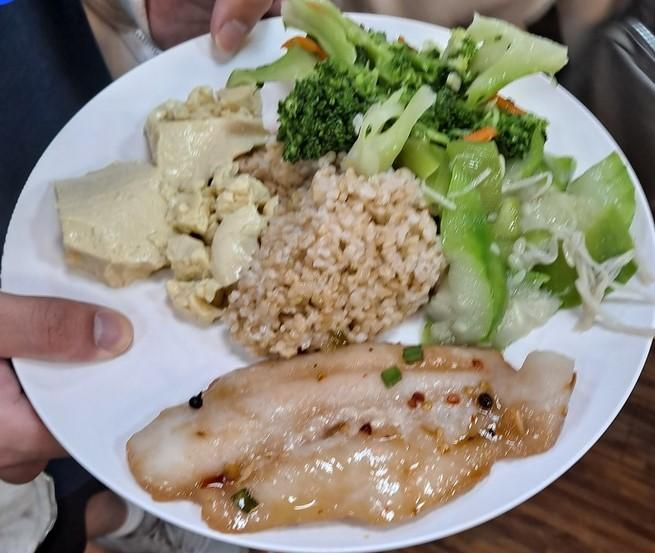big fried chicken leg: (2, 10, 655, 552)
box: (240, 163, 439, 358)
braised fish fillet: (48, 74, 277, 321), (233, 0, 572, 162), (407, 123, 637, 349)
braised pork ribs: (113, 345, 580, 536)
